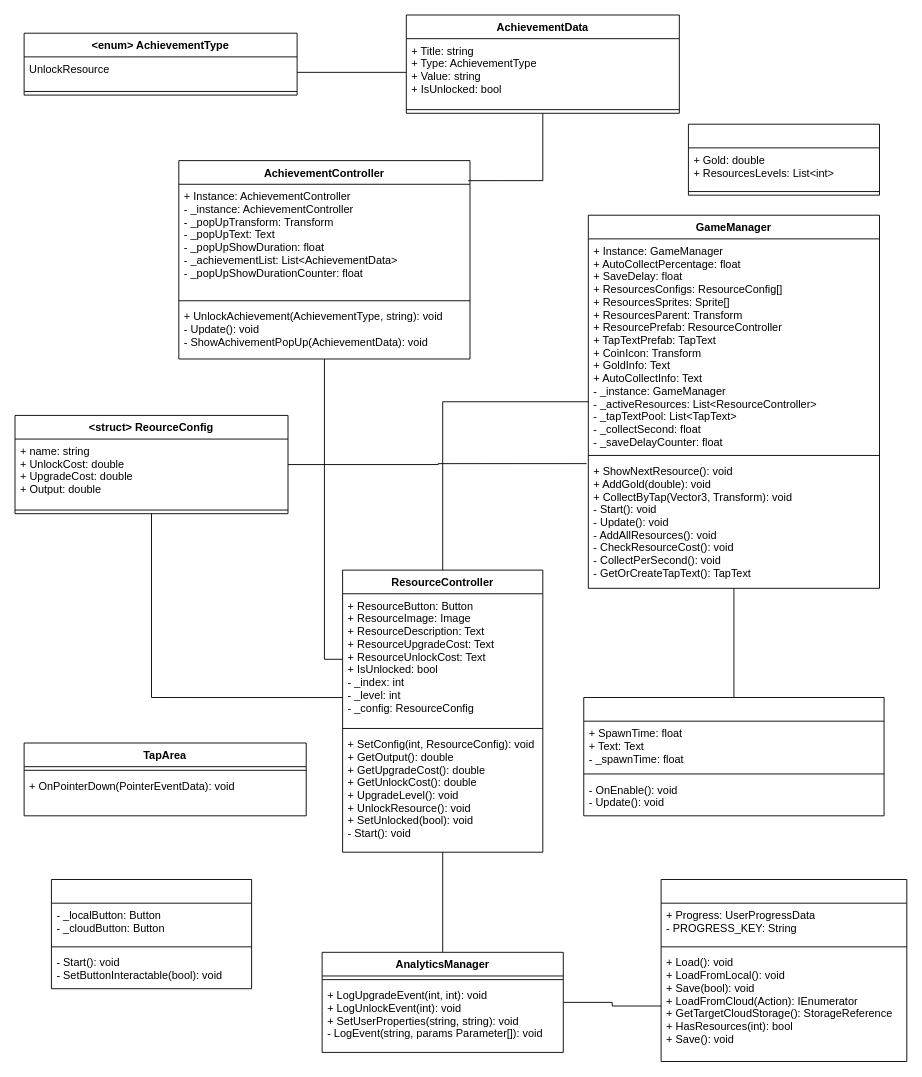
Image size: 922x1077. Some labels were removed from this diagram. The shapes that lost their labels are listed below. From the top down, each one's box as (x1, y1, x2, y2) in pixels, then its label:
(688, 123, 880, 195): UserProgressData
(583, 697, 884, 816): TapText
(51, 879, 252, 989): LoadingController
(660, 879, 907, 1062): UserDataManager
